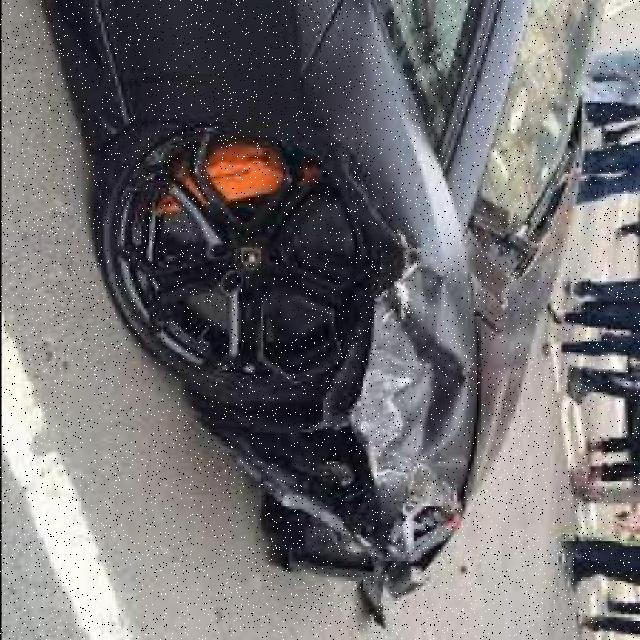damage: (199, 124, 486, 629)
